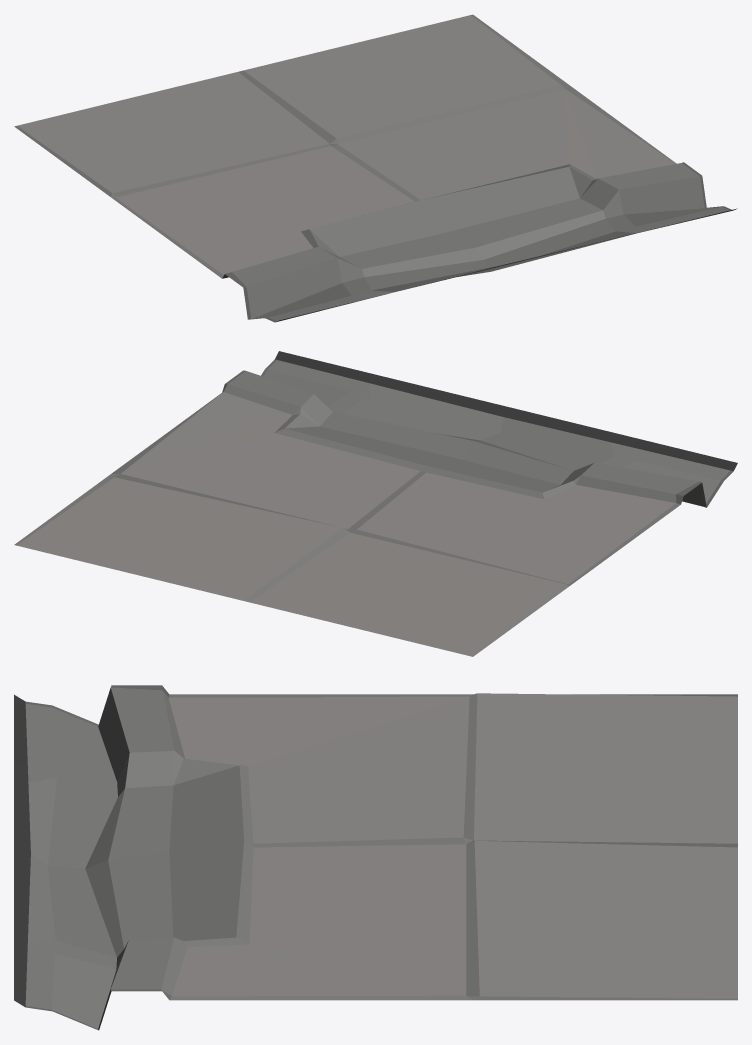
Rendered from SM_Env_Sidewalk_Dip_01.fbx.
The picture shows the model from 3 angles, top to bottom: view 1: azimuth 30°, elevation 25°; view 2: azimuth 150°, elevation 25°; view 3: azimuth 270°, elevation 25°; orthographic projection. The views are drawn at different scales.
Parts seen in each view (by area): view 1: SM_Env_Sidewalk_Dip_01; view 2: SM_Env_Sidewalk_Dip_01; view 3: SM_Env_Sidewalk_Dip_01.
Part boxes in pixels (x1=…): SM_Env_Sidewalk_Dip_01: x1=14, y1=14, x2=737, y2=322; SM_Env_Sidewalk_Dip_01: x1=14, y1=351, x2=737, y2=656; SM_Env_Sidewalk_Dip_01: x1=14, y1=685, x2=737, y2=1030.
Bounding box in the file's own units: 500 × 30 × 500.
